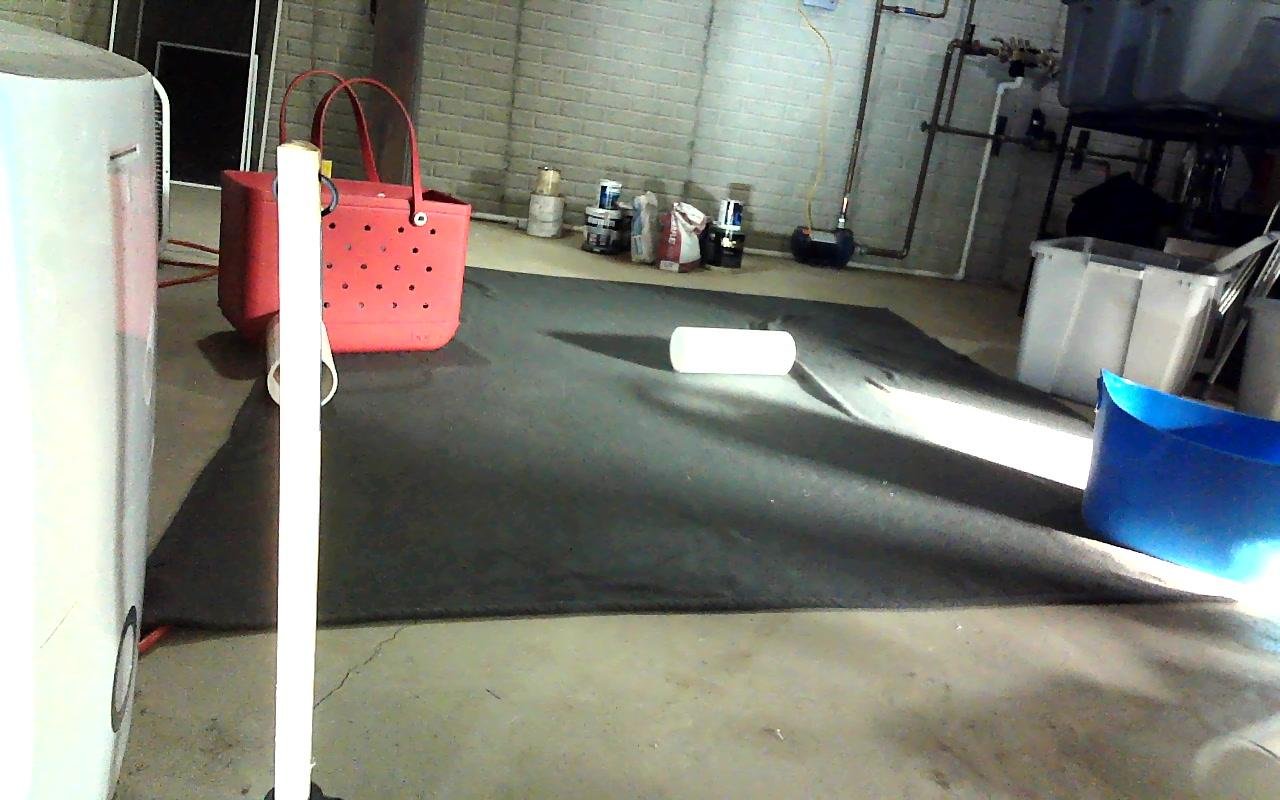coral: (1192, 714, 1280, 800), (267, 309, 338, 406), (671, 327, 794, 375)
